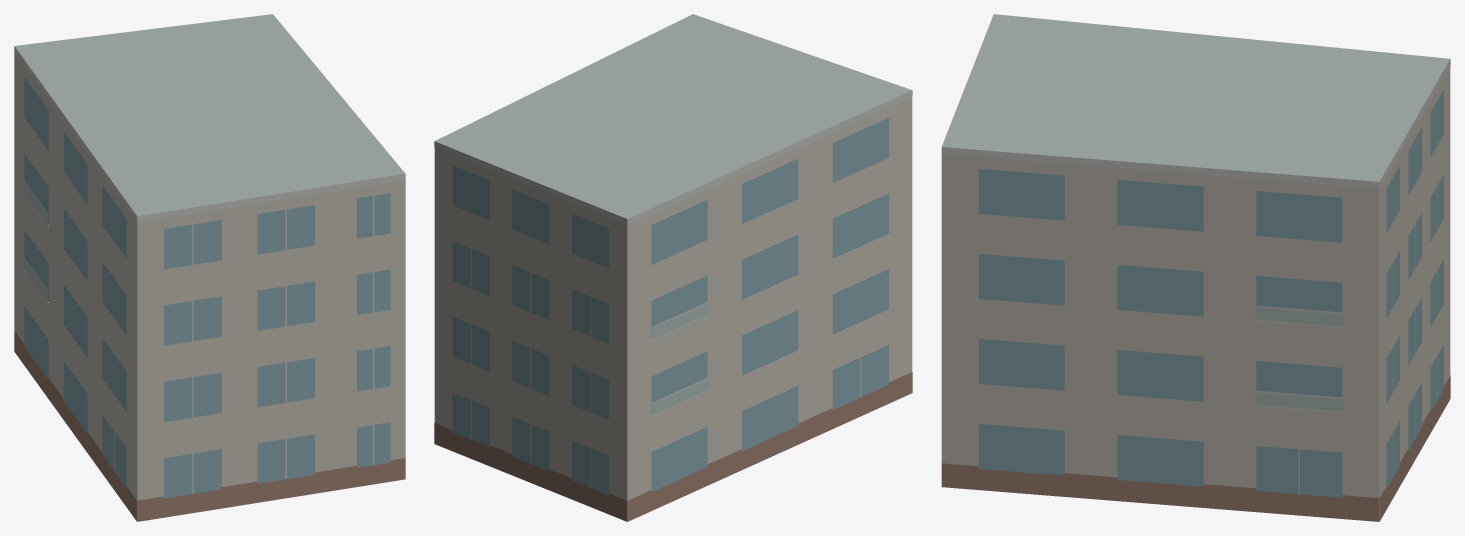
Rendered from survey-upis-32558280.glb.
3 renders of one model, left to right at view 1: azimuth 30°, elevation 25°; view 2: azimuth 150°, elevation 25°; view 3: azimuth 270°, elevation 25°, orthographic. The views are drawn at different scales.
Visible parts, largest first — view 1: survey-upis-32558280.tmp; view 2: survey-upis-32558280.tmp; view 3: survey-upis-32558280.tmp.
Boxes of the visible parts, box(x1,y1,x2,y2) form: survey-upis-32558280.tmp: box(14, 14, 405, 521); survey-upis-32558280.tmp: box(434, 14, 912, 521); survey-upis-32558280.tmp: box(941, 14, 1450, 521).
Size of the model in its own units: 12.88 by 12.16 by 16.5.
